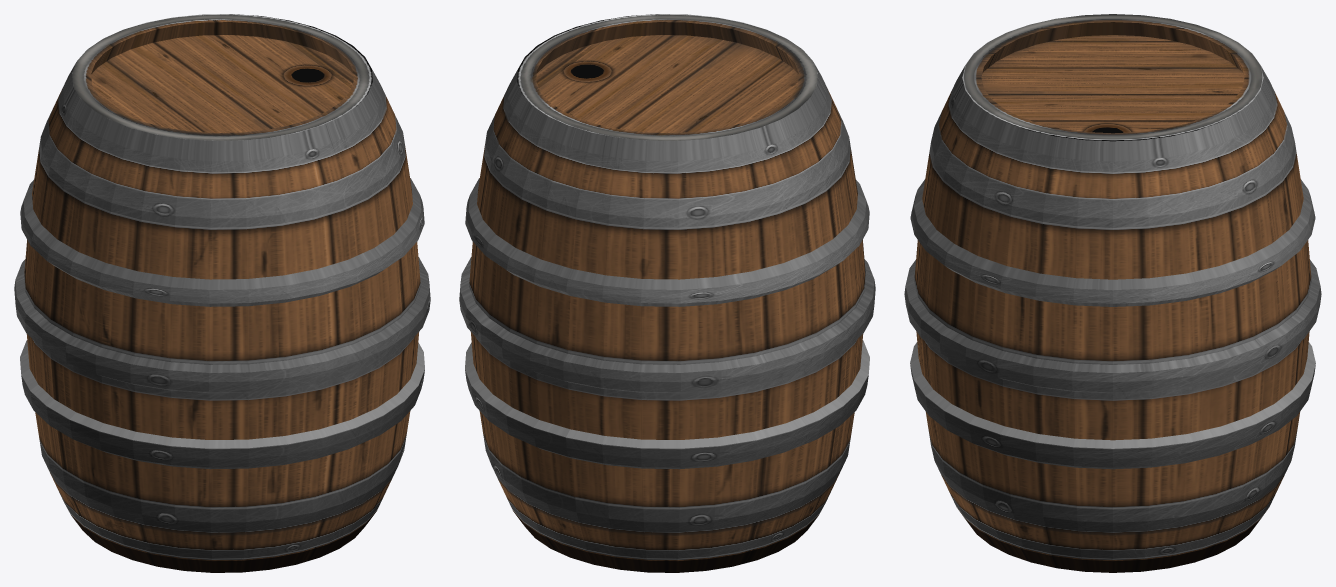
File: Barrel.fbx
3 views of the same model, side by side, from view 1: azimuth 30°, elevation 25°; view 2: azimuth 150°, elevation 25°; view 3: azimuth 270°, elevation 25° (orthographic).
Parts seen in each view (by area): view 1: Barrel, Top; view 2: Barrel, Top; view 3: Barrel, Top.
Boxes of the visible parts, x1,y1,x2,y2 form: Barrel: (14, 61, 430, 572); Top: (72, 14, 372, 140); Barrel: (459, 61, 875, 572); Top: (517, 14, 817, 140); Barrel: (904, 66, 1321, 572); Top: (962, 14, 1263, 141).
Size of the model in its own units: 1234 by 1413 by 1234.
